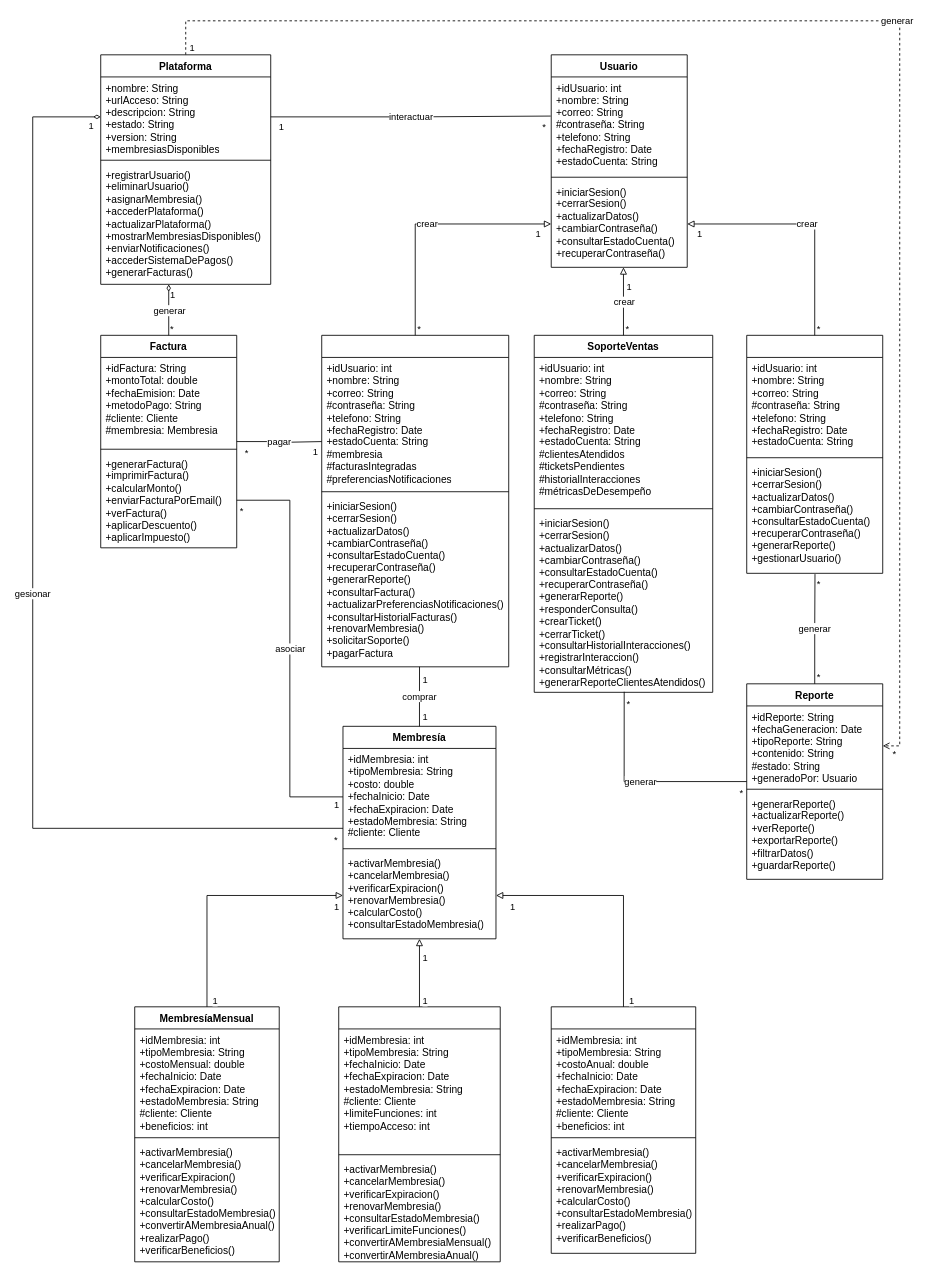
This 927x1279 diagram has some shape labels left out. The box of each missing label's shape, as (x1, y1, x2, y2) in pixels:
Administrador: (746, 334, 883, 573)
Cliente: (321, 334, 509, 667)
MembresíaAnual: (550, 1006, 696, 1253)
MembresíaGratuita: (338, 1006, 500, 1262)
